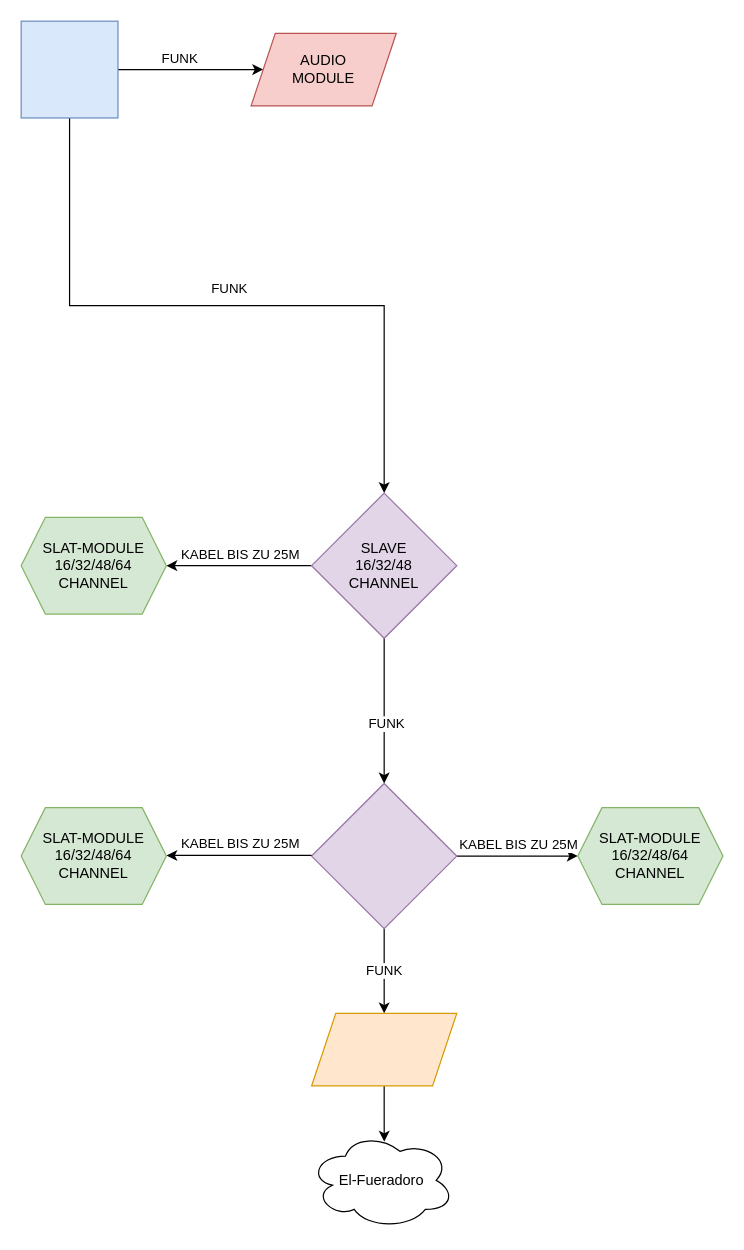
Image size: 744x1250. Some labels were removed from this diagram. The shapes that lost their labels are listed below. From the top down, each one's centre as x and y in pixels, then its label:
the point at 69,69: MASTER
the point at 383,855: SLAVE 0 CHANNEL
the point at 383,1049: NETWORK BRIDGE
